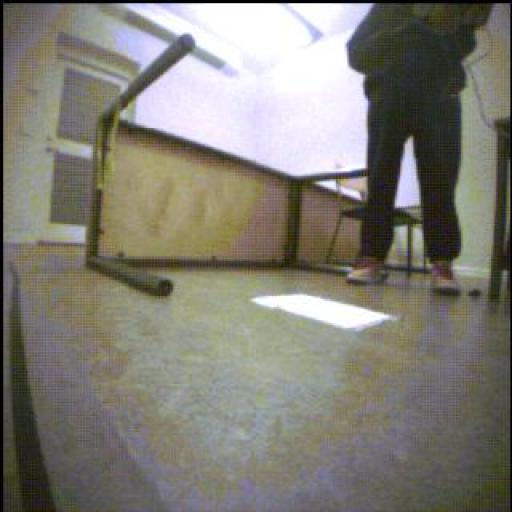Pad: (254, 296, 398, 333)
